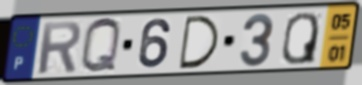3: (237, 11, 274, 69)
6: (137, 17, 173, 71)
D: (177, 14, 222, 71)
Q: (79, 16, 123, 77), (279, 10, 321, 66)
R: (36, 19, 83, 76)
